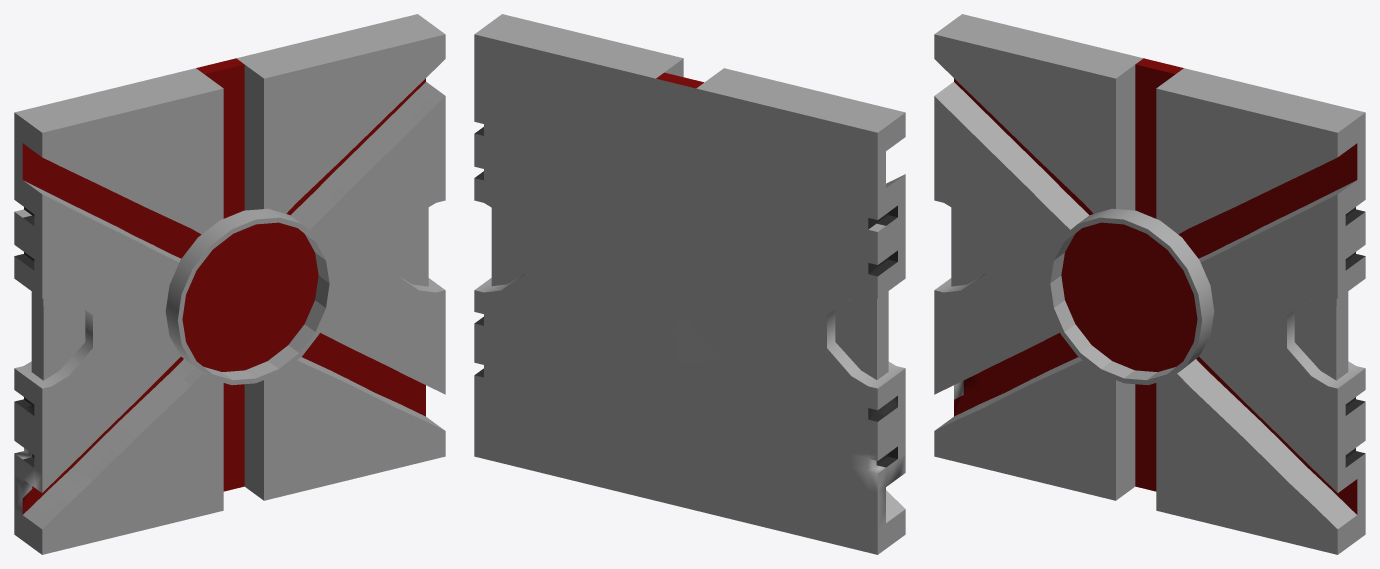
Rendered from Shootable Bomb.fbx.
3 views of the same model, side by side, from view 1: azimuth 30°, elevation 25°; view 2: azimuth 150°, elevation 25°; view 3: azimuth 330°, elevation 25° (orthographic).
Parts seen in each view (by area): view 1: Bomb_LeftSide, Bomb_RightSide, ShootableCentre; view 2: Bomb_LeftSide, Bomb_RightSide; view 3: Bomb_RightSide, Bomb_LeftSide, ShootableCentre.
Boxes of the visible parts, x1=… form: Bomb_LeftSide: x1=14, y1=63, x2=224, y2=554; Bomb_RightSide: x1=216, y1=14, x2=445, y2=500; ShootableCentre: x1=165, y1=208, x2=334, y2=385; Bomb_LeftSide: x1=676, y1=68, x2=905, y2=554; Bomb_RightSide: x1=474, y1=14, x2=683, y2=505; Bomb_RightSide: x1=1155, y1=63, x2=1365, y2=554; Bomb_LeftSide: x1=934, y1=14, x2=1163, y2=500; ShootableCentre: x1=1045, y1=208, x2=1214, y2=385.
Bounding box in the file's own units: 131 × 131 × 22.55.
